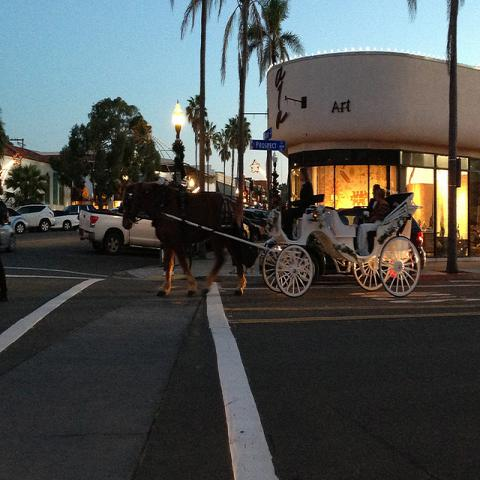car: (9, 204, 57, 235), (410, 217, 427, 268), (52, 209, 78, 229), (0, 223, 17, 251), (67, 204, 97, 214), (0, 197, 10, 226)
truck: (76, 203, 166, 257)
